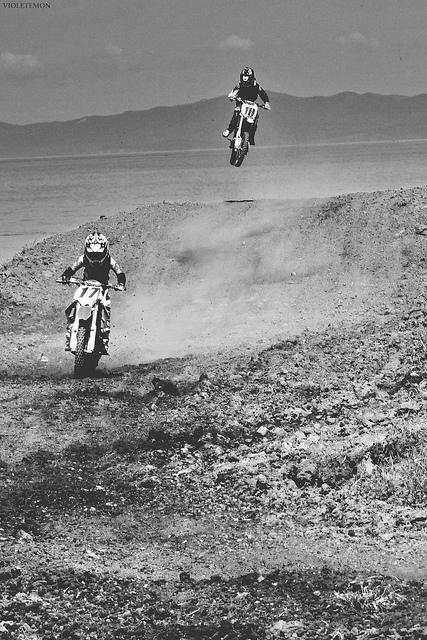motorcycle: (52, 279, 121, 381), (231, 96, 266, 168)
